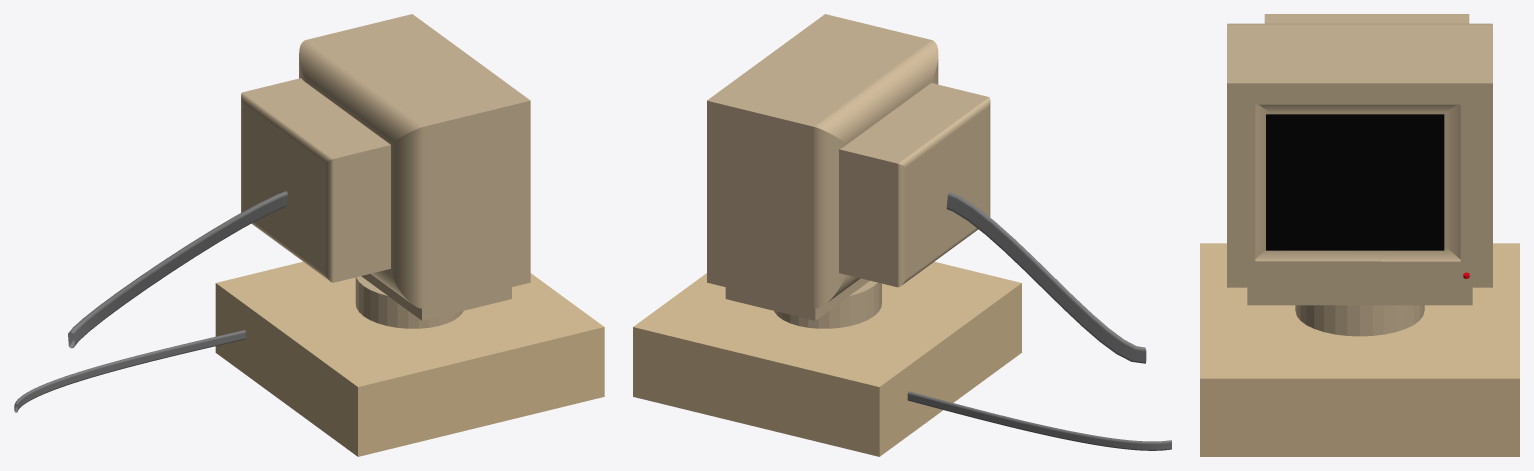
Rendered from Computer Terminal V1.fbx.
3 renders of one model, left to right at view 1: azimuth 30°, elevation 25°; view 2: azimuth 150°, elevation 25°; view 3: azimuth 270°, elevation 25°, orthographic. The views are drawn at different scales.
Parts seen in each view (by area): view 1: Cube.003, Cube, Cube.001, BezierCurve.001, BezierCurve, Cylinder, Cube.002; view 2: Cube.003, Cube, Cube.001, BezierCurve.001, BezierCurve, Cylinder, Cube.002; view 3: Cube.003, Cube, Cube.004, Cube.002, Cylinder, Cube.001.
Boxes of the visible parts, x1=… form: Cube.003: x1=215, y1=261, x2=604, y2=456; Cube: x1=299, y1=14, x2=530, y2=308; Cube.001: x1=241, y1=78, x2=390, y2=282; BezierCurve.001: x1=68, y1=191, x2=287, y2=348; BezierCurve: x1=14, y1=330, x2=245, y2=412; Cylinder: x1=355, y1=276, x2=463, y2=328; Cube.002: x1=361, y1=274, x2=511, y2=320; Cube.003: x1=633, y1=261, x2=1021, y2=456; Cube: x1=707, y1=14, x2=938, y2=308; Cube.001: x1=839, y1=83, x2=990, y2=287; BezierCurve.001: x1=946, y1=192, x2=1146, y2=363; BezierCurve: x1=907, y1=391, x2=1171, y2=450; Cylinder: x1=774, y1=280, x2=881, y2=328; Cube.002: x1=725, y1=278, x2=869, y2=320; Cube.003: x1=1200, y1=243, x2=1519, y2=456; Cube: x1=1227, y1=23, x2=1492, y2=287; Cube.004: x1=1266, y1=114, x2=1444, y2=250; Cube.002: x1=1247, y1=287, x2=1472, y2=305; Cylinder: x1=1295, y1=305, x2=1424, y2=336; Cube.001: x1=1264, y1=14, x2=1469, y2=23.
Bounding box in the file's own units: 567 × 333 × 284.
